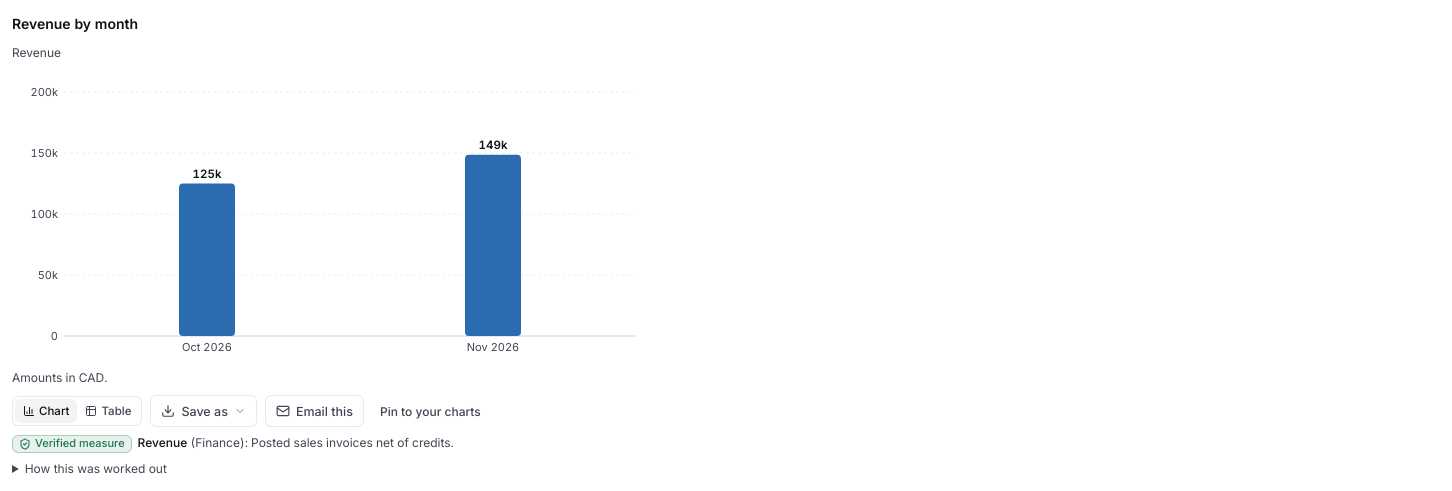
Test: Genie 2026 completeness: verified measures, how calculated, Chart/Table toggle, CSV, follow-ups, attachments, instructions › toggles cleanly between Chart view and Data Table view on Ask charts and exports RFC-4180 CSV
The image size is (1452, 491).
Expected: the element with test id "verified-measure-badge" reads "Verified measure", [35,436,125,450]
Expected: the picture named "Revenue by month" is shown, [12,70,652,360]
Click the button "Table": (108, 411) [77,399,139,423]
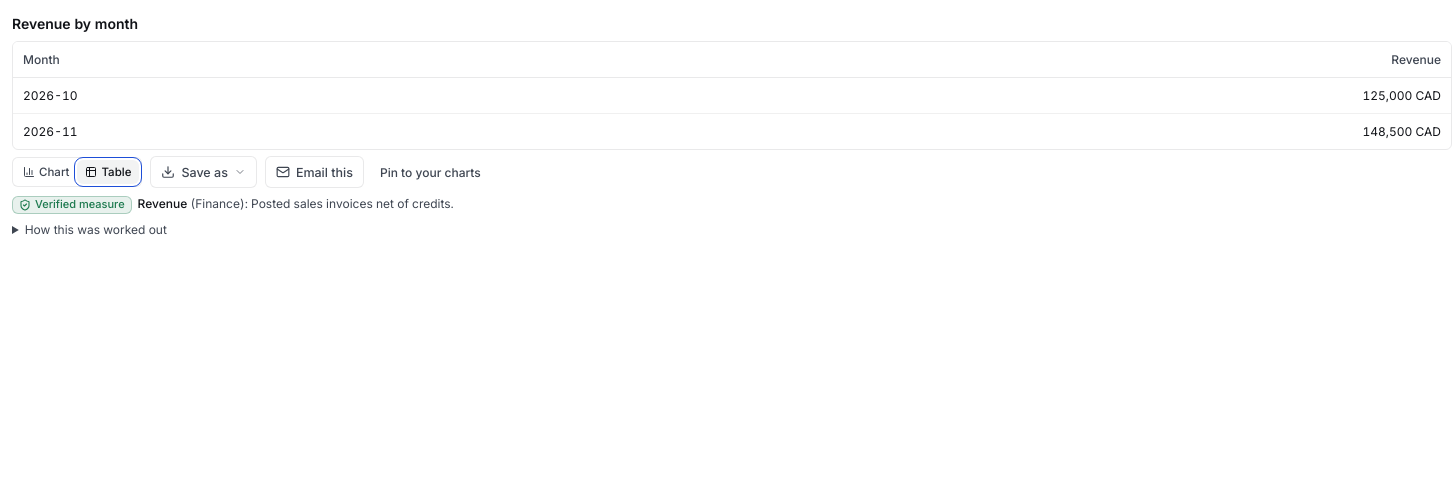
Result: the element with test id "chart-data-table" is shown at [12,41,1451,150]
Result: the element with test id "chart-data-table" shows "148,500 CAD" at [1362,124,1441,139]
// Save menu includes CSV alongside Excel/PNG
Click the heading named "Save the chart": (204, 172) [150,156,257,188]
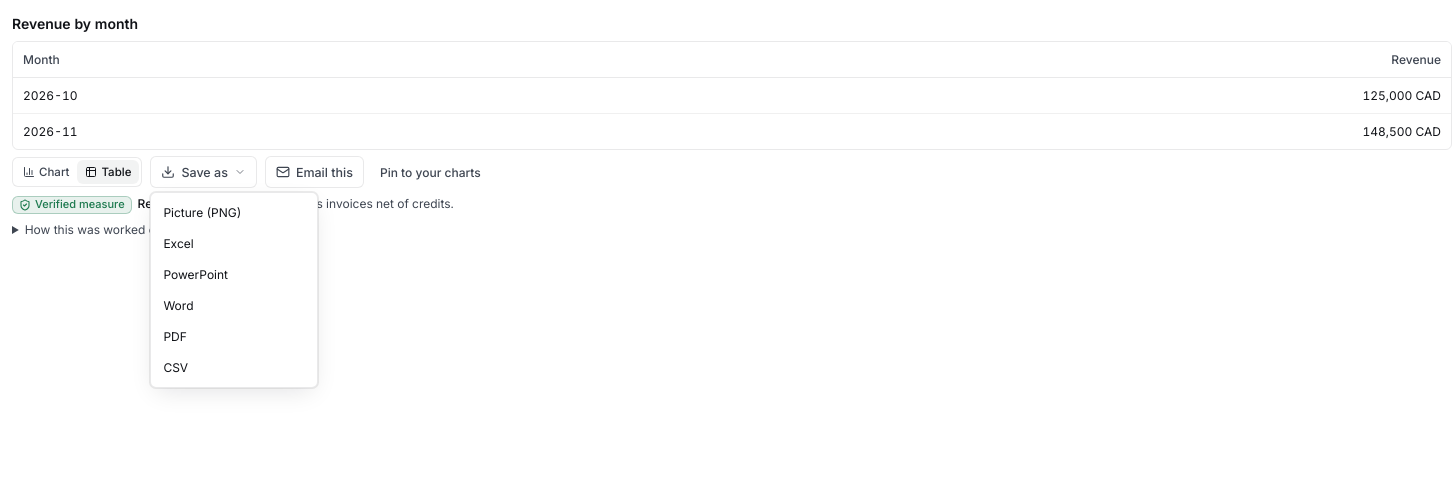
Result: the menu item "CSV" is shown at [151,352,317,383]
